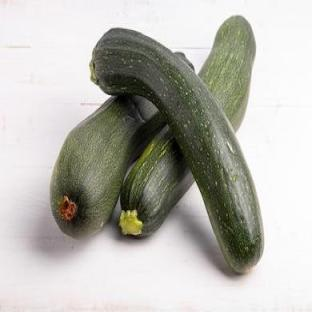Zucchini: (92, 29, 263, 272), (51, 96, 164, 237), (120, 128, 193, 237)
